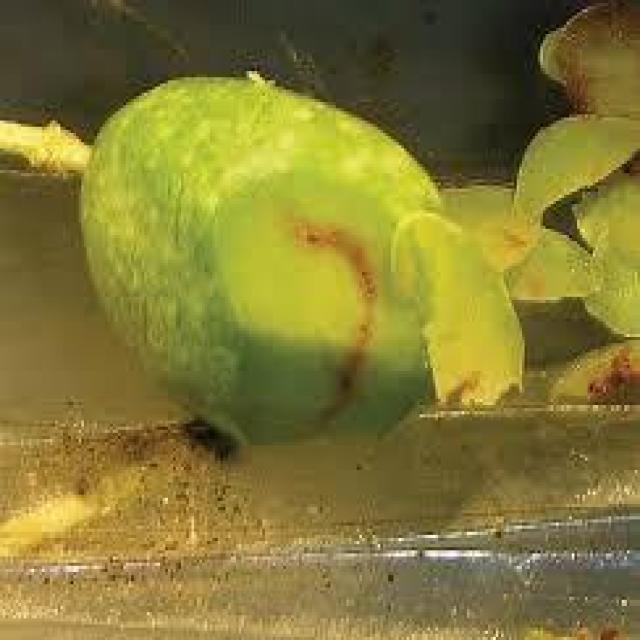Olive Fruit Fly: (202, 121, 435, 445)
